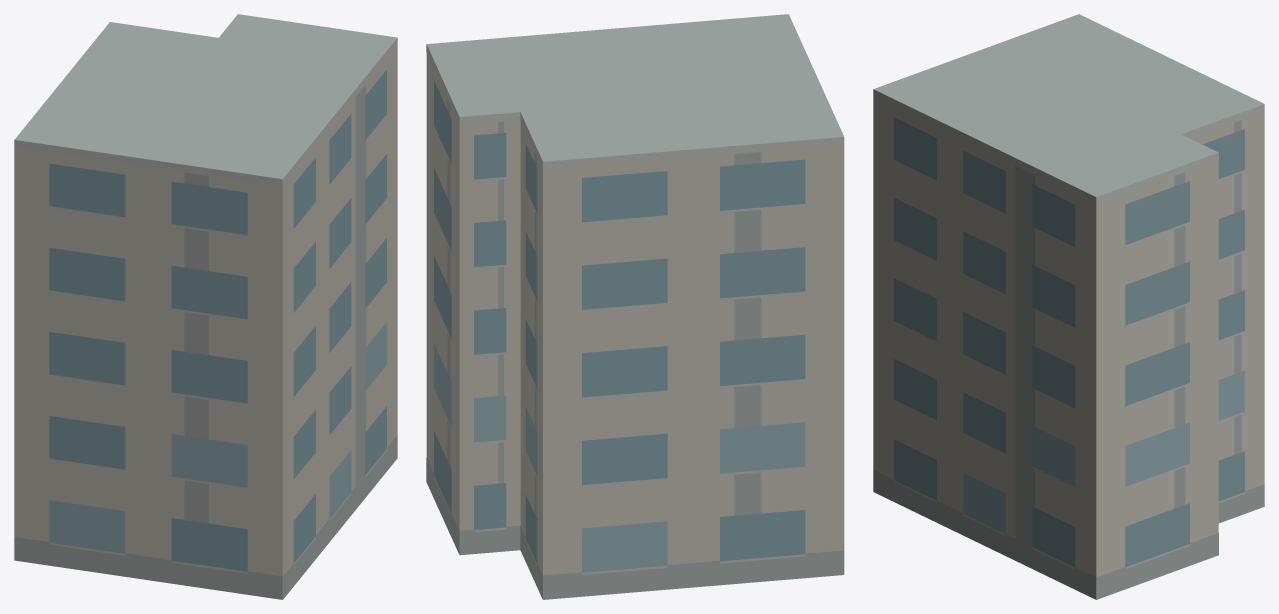
The model's file is survey-upis-32636303.glb.
3 renders of one model, left to right at view 1: azimuth 30°, elevation 25°; view 2: azimuth 150°, elevation 25°; view 3: azimuth 270°, elevation 25°, orthographic. The views are drawn at different scales.
Visible parts, largest first — view 1: survey-upis-32636303.tmp; view 2: survey-upis-32636303.tmp; view 3: survey-upis-32636303.tmp.
Boxes of the visible parts, box(x1,y1,x2,y2) form: survey-upis-32636303.tmp: box(14, 14, 397, 599); survey-upis-32636303.tmp: box(426, 14, 844, 599); survey-upis-32636303.tmp: box(873, 14, 1264, 599).
Bounding box in the file's own units: 12.79 × 13.1 × 11.55.
